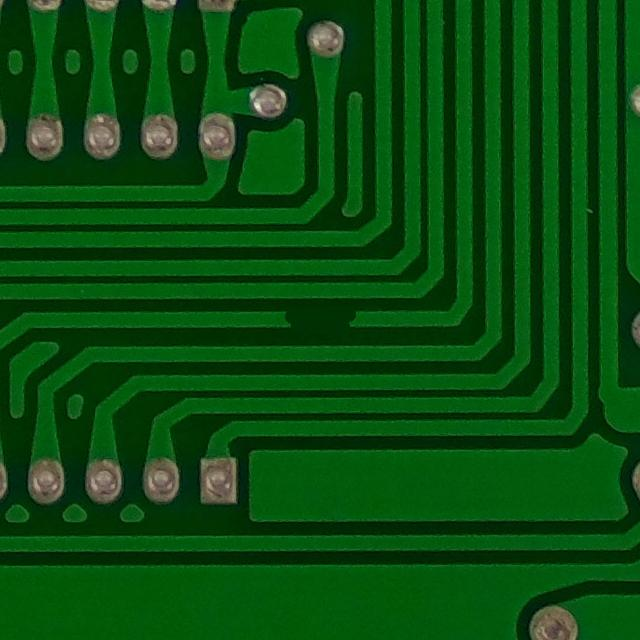open_circuit: (276, 301, 364, 339)
